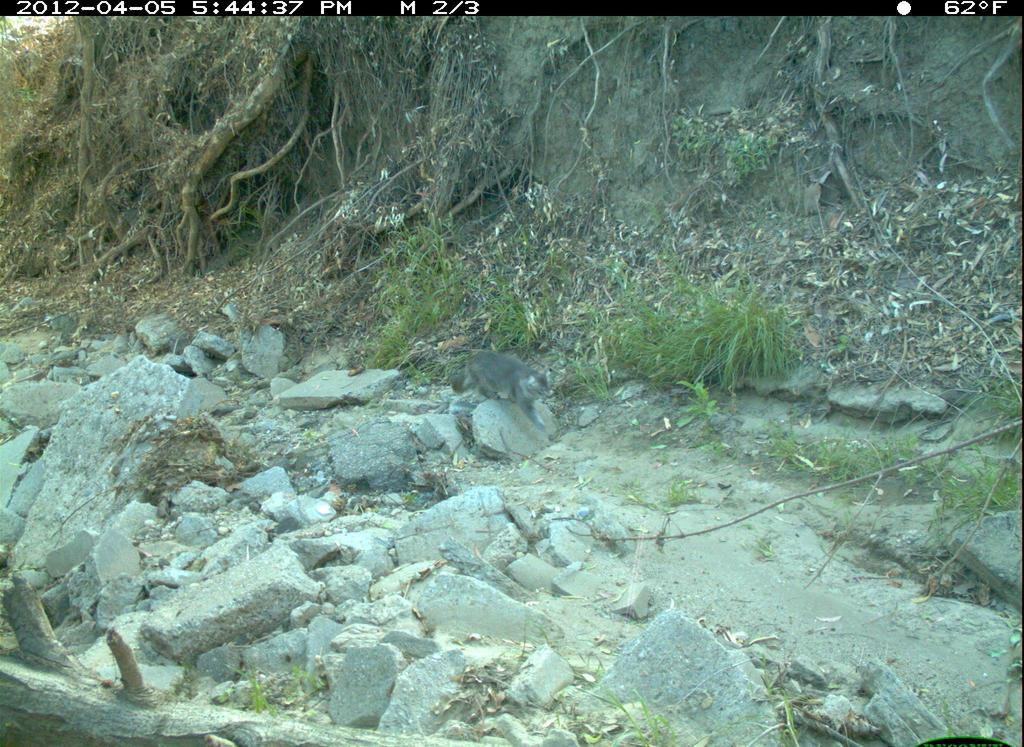cat: (437, 344, 564, 431)
